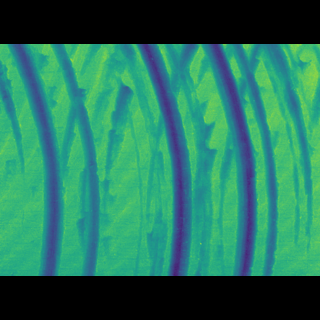Loch: (132, 75, 320, 246), (4, 75, 71, 243), (45, 75, 104, 244), (98, 100, 138, 185), (0, 85, 30, 170)
